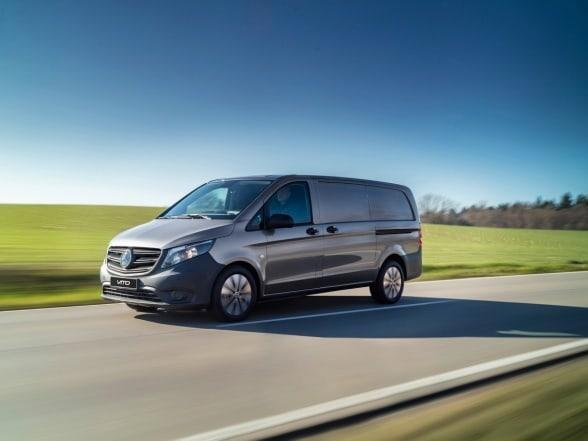car: (99, 172, 428, 329)
